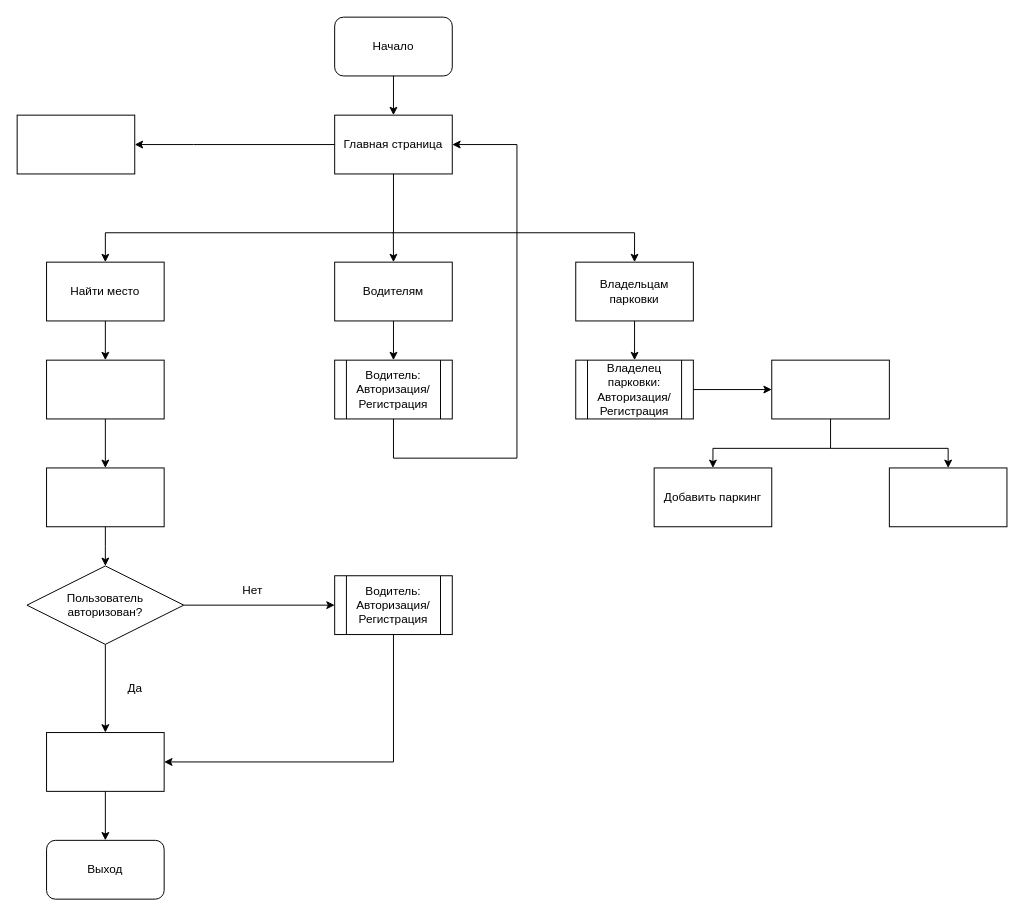
Image size: 1024x916. Some labels were removed from this diagram. Each missing label, with the centre of its shape:
Бронирование: [105,761]
Выбор места: [105,497]
Выбор парковки, просмотр информации: [105,389]
Личный кабинет: [830,389]
О нас: [75,144]
Редактировать паркинг: [947,497]
